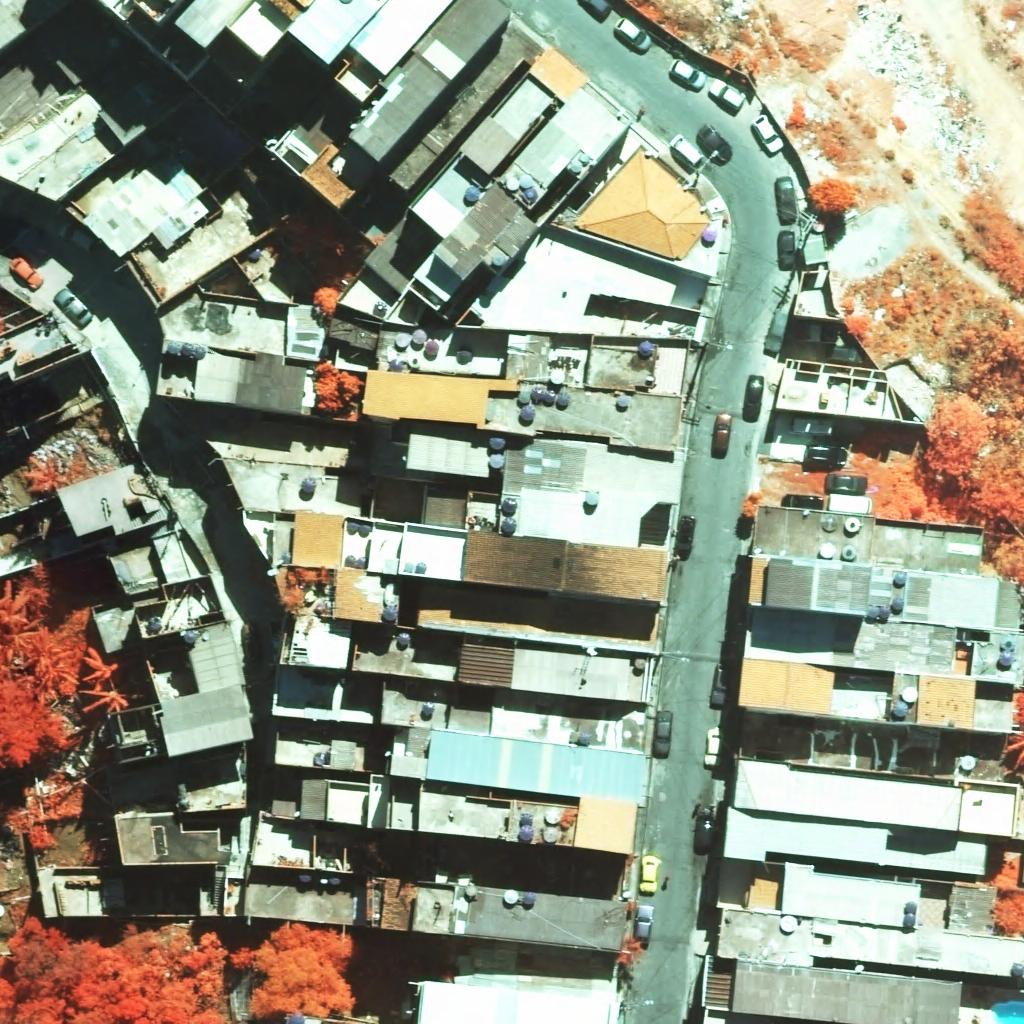pool: (992, 1001, 1024, 1024)
